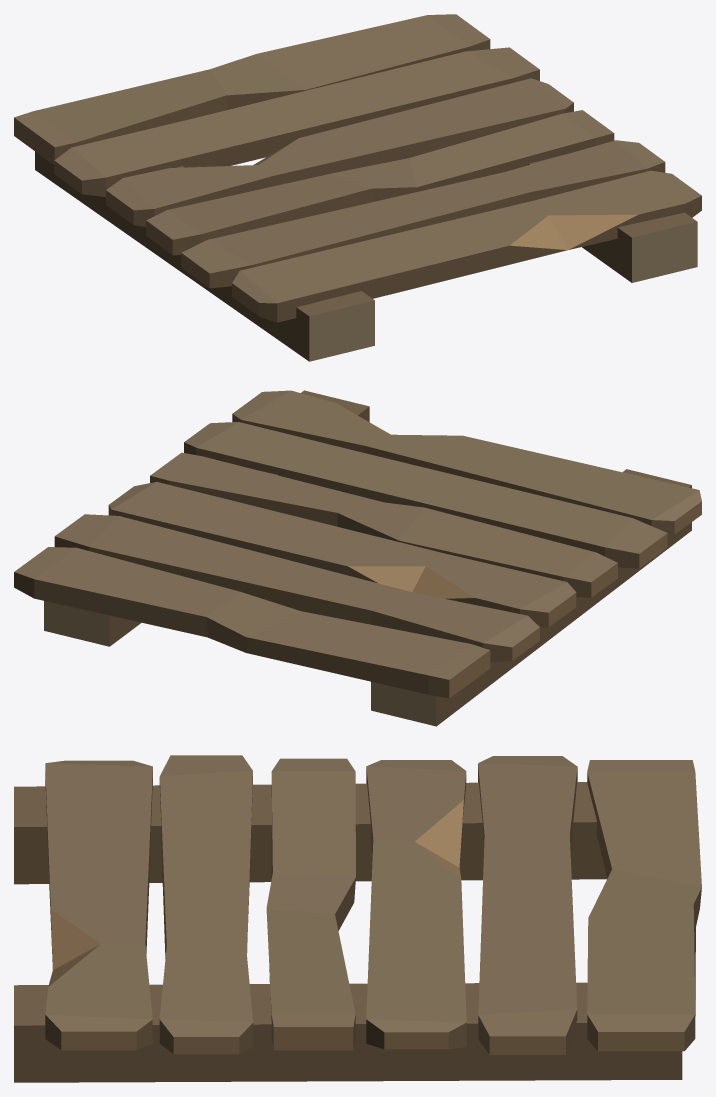
File: SM_Env_Bridge_03.fbx
The picture shows the model from 3 angles, top to bottom: view 1: azimuth 30°, elevation 25°; view 2: azimuth 150°, elevation 25°; view 3: azimuth 270°, elevation 25°; orthographic projection. The views are drawn at different scales.
Visible parts, largest first — view 1: SM_Env_Bridge_03; view 2: SM_Env_Bridge_03; view 3: SM_Env_Bridge_03.
Part boxes in pixels (box(x1,y1,x2,y2)): SM_Env_Bridge_03: box(14, 14, 701, 361); SM_Env_Bridge_03: box(14, 390, 701, 726); SM_Env_Bridge_03: box(14, 755, 701, 1082).
Size of the model in its own units: 0.025 by 0.00302 by 0.0259.
Materials: 1 (1 with a texture image).
